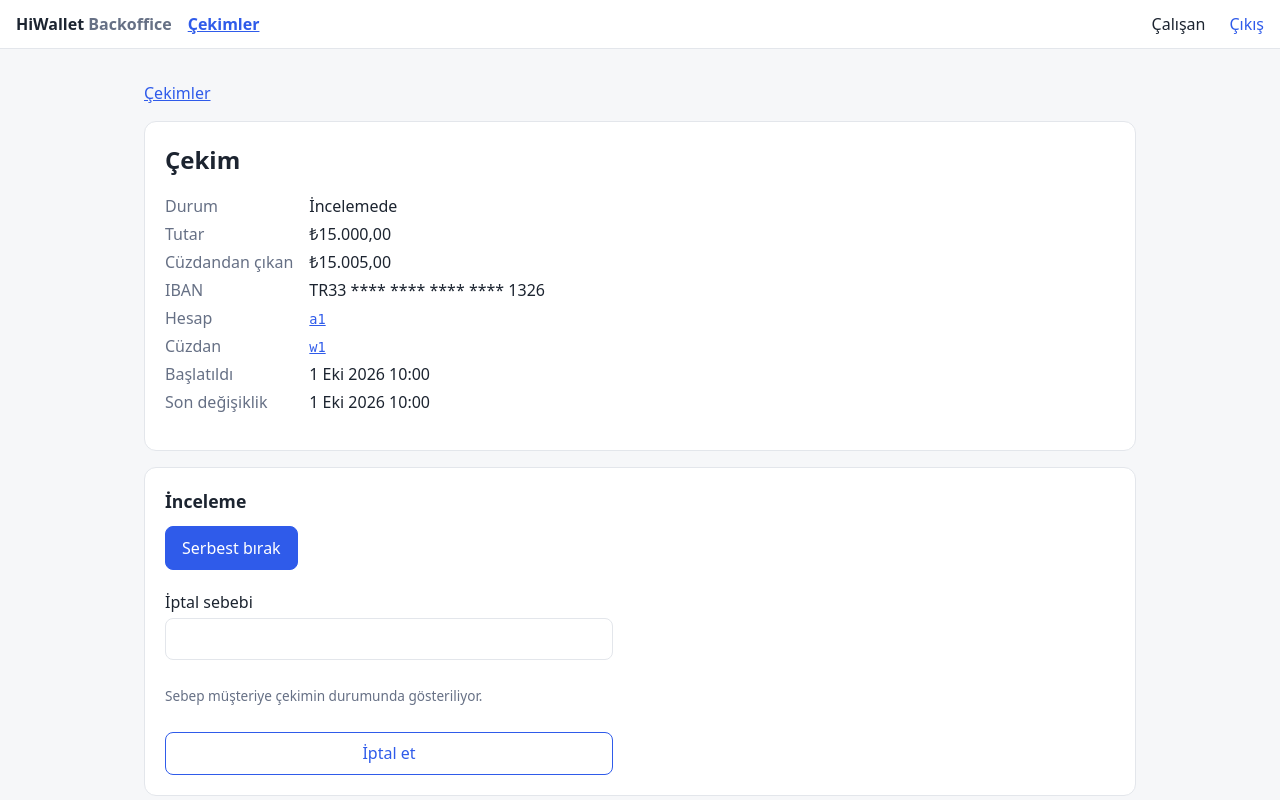
Scenario: WithdrawalPage › inceleme izniyle iptal sebebiyle gönderiliyor
Type "Müşteri talebi" into the field labelled "İptal sebebi". click: (389,639)
box: [165,618,613,660]
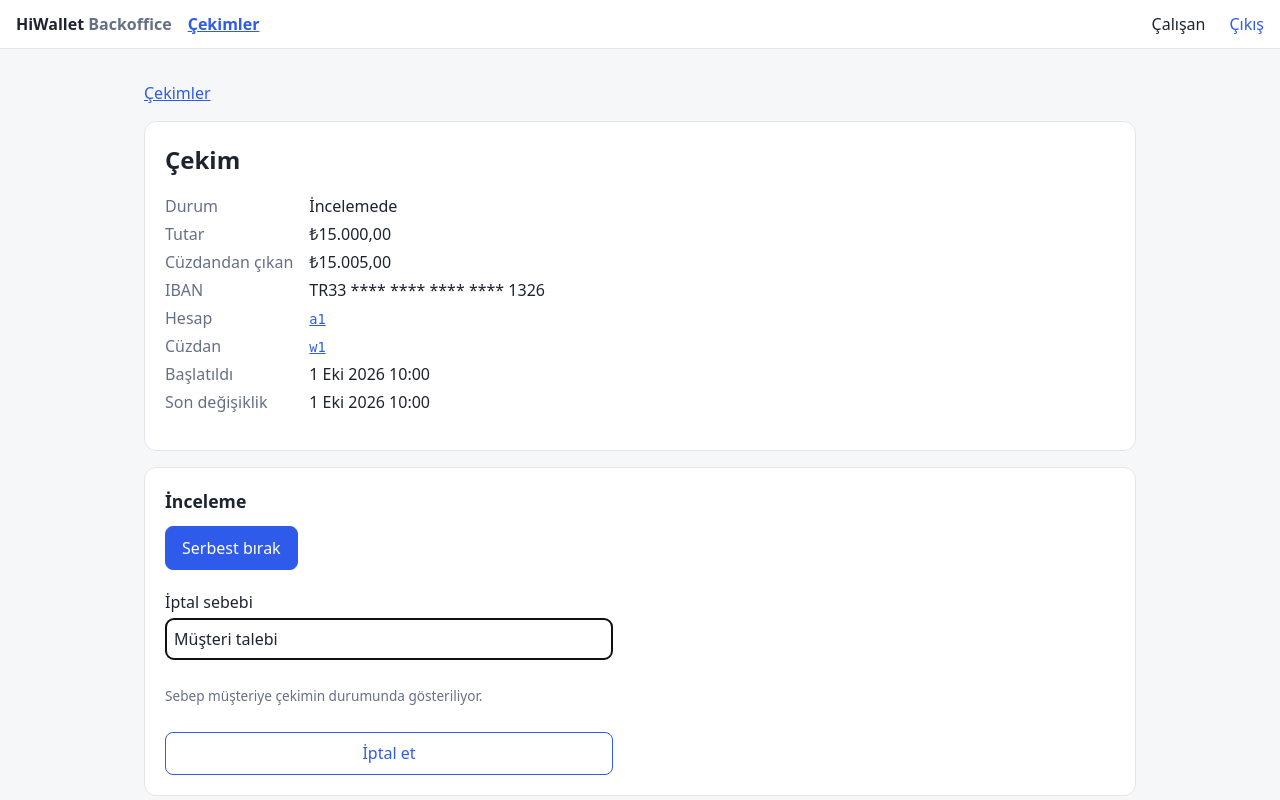
Click the button "İptal et". click: (389,753)
box: [165,732,613,775]
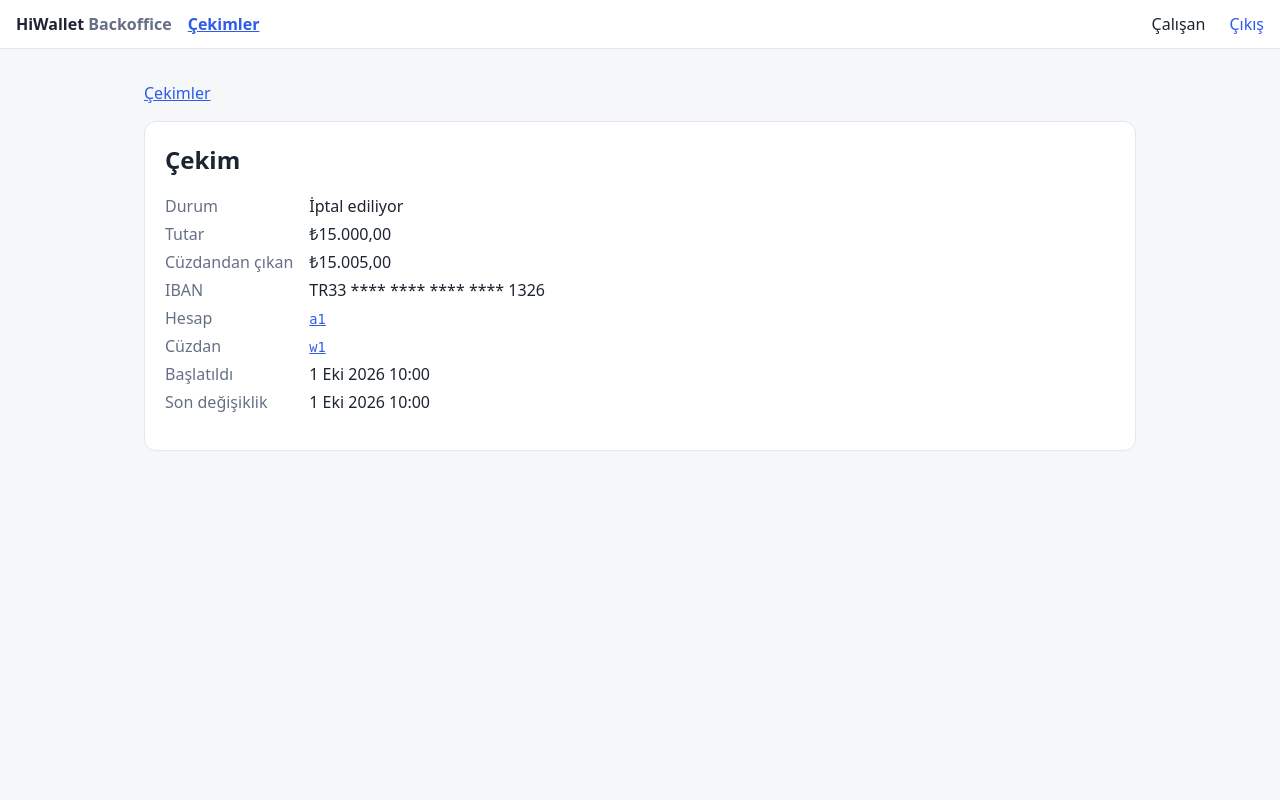
Expected: the text "İptal ediliyor" is shown, [309,195,403,217]
